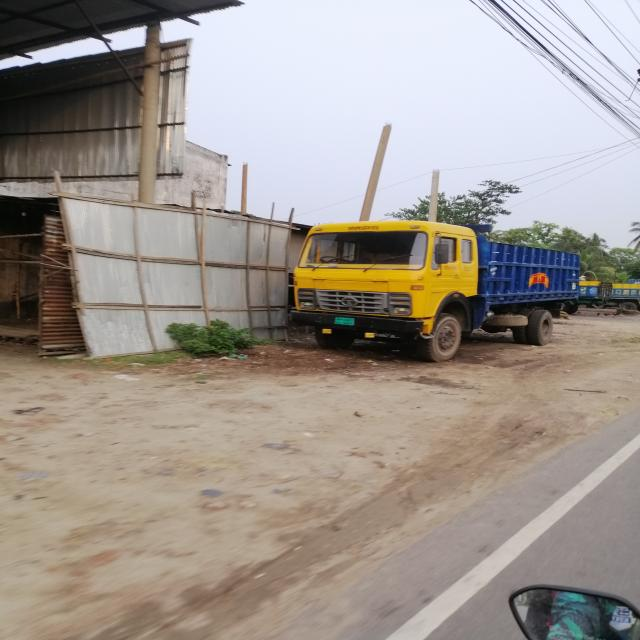Truck: (272, 206, 590, 369)
